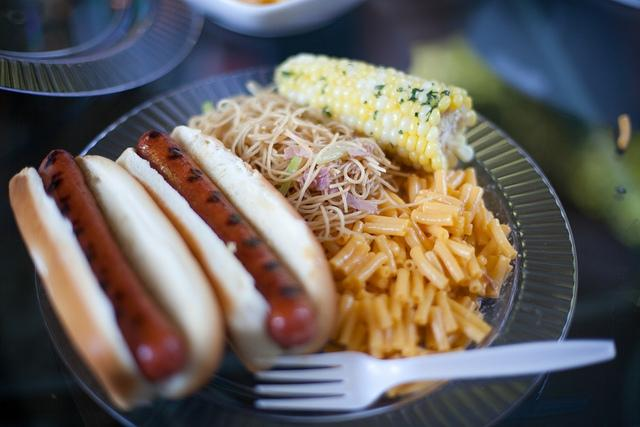corn: (276, 52, 476, 174)
